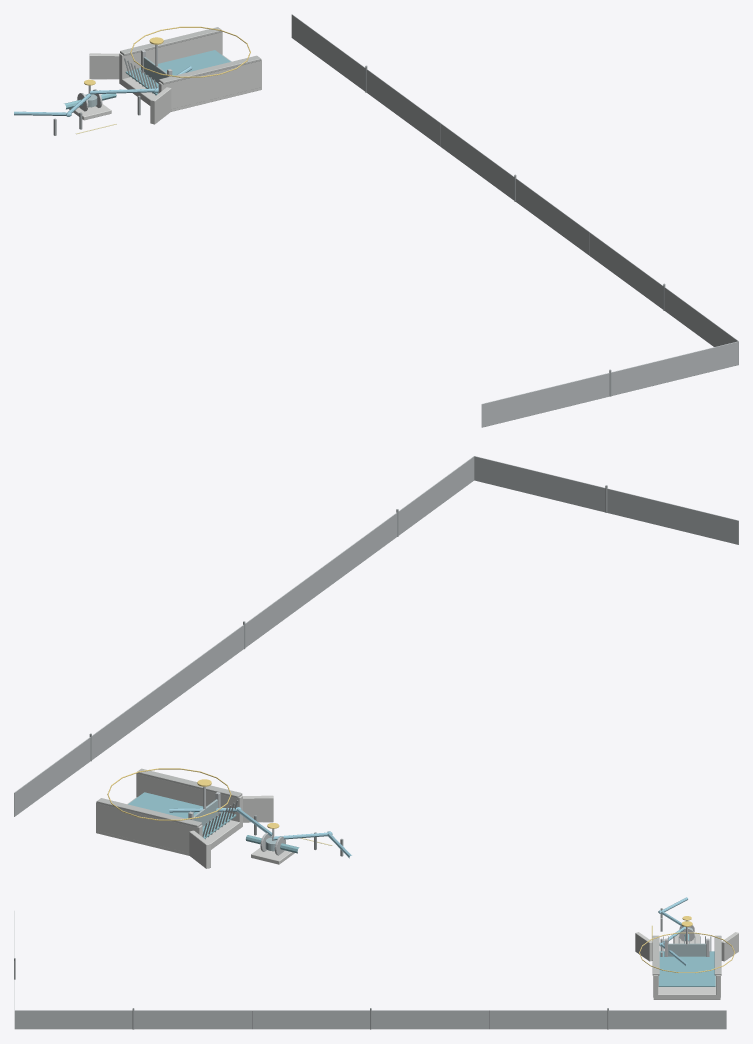
3 views of the same model, one above another, from view 1: azimuth 30°, elevation 25°; view 2: azimuth 150°, elevation 25°; view 3: azimuth 270°, elevation 25° (orthographic). The views are drawn at different scales.
Parts seen in each view (by area): view 1: render-batch-5, render-batch-8, render-batch-0, render-batch-6, render-batch-1; view 2: render-batch-5, render-batch-8, render-batch-0, render-batch-6, render-batch-1, render-batch-10; view 3: render-batch-5, render-batch-8, render-batch-0, render-batch-6, render-batch-4, render-batch-10, render-batch-1, render-batch-7, render-batch-3.
Boxes of the visible parts, x1,y1,x2,y2 form: render-batch-5: (291, 14, 738, 427); render-batch-8: (69, 32, 261, 124); render-batch-0: (64, 50, 230, 109); render-batch-6: (120, 27, 261, 84); render-batch-1: (14, 66, 192, 116); render-batch-5: (14, 456, 738, 816); render-batch-8: (96, 773, 294, 868); render-batch-0: (128, 792, 299, 853); render-batch-6: (96, 768, 242, 827); render-batch-1: (169, 807, 351, 858); render-batch-10: (107, 768, 279, 828); render-batch-5: (14, 911, 726, 1029); render-batch-8: (635, 932, 738, 999); render-batch-0: (658, 921, 715, 986); render-batch-6: (652, 935, 721, 975); render-batch-4: (668, 927, 706, 956); render-batch-10: (639, 916, 735, 972); render-batch-1: (658, 897, 687, 965); render-batch-7: (664, 920, 709, 956); render-batch-3: (14, 908, 662, 1029).
Bounding box in the file's own units: 24.15 × 4.16 × 62.55.
